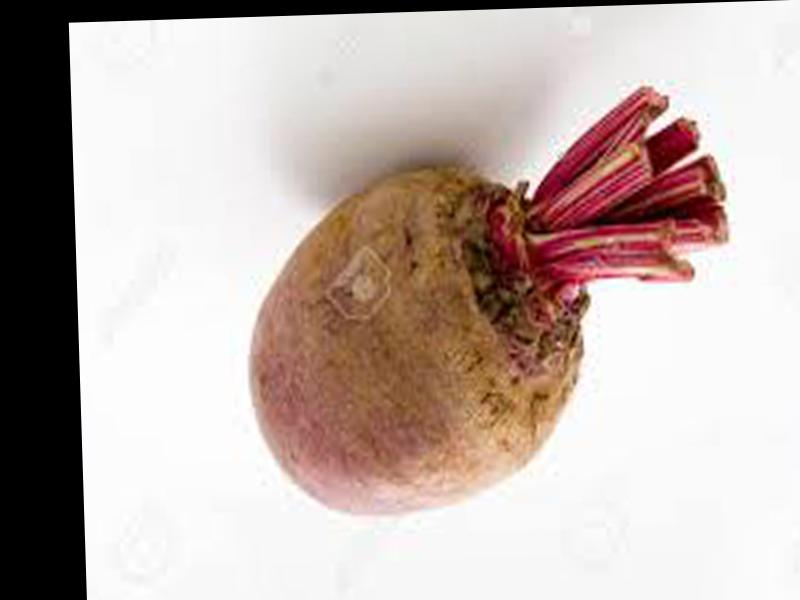Beet: (238, 80, 735, 521)
